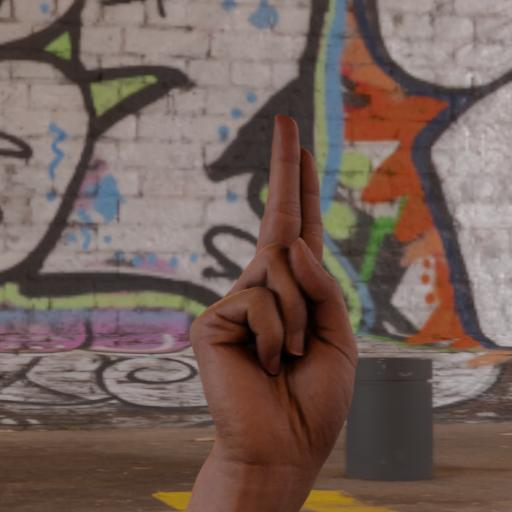U: (179, 77, 462, 512)
